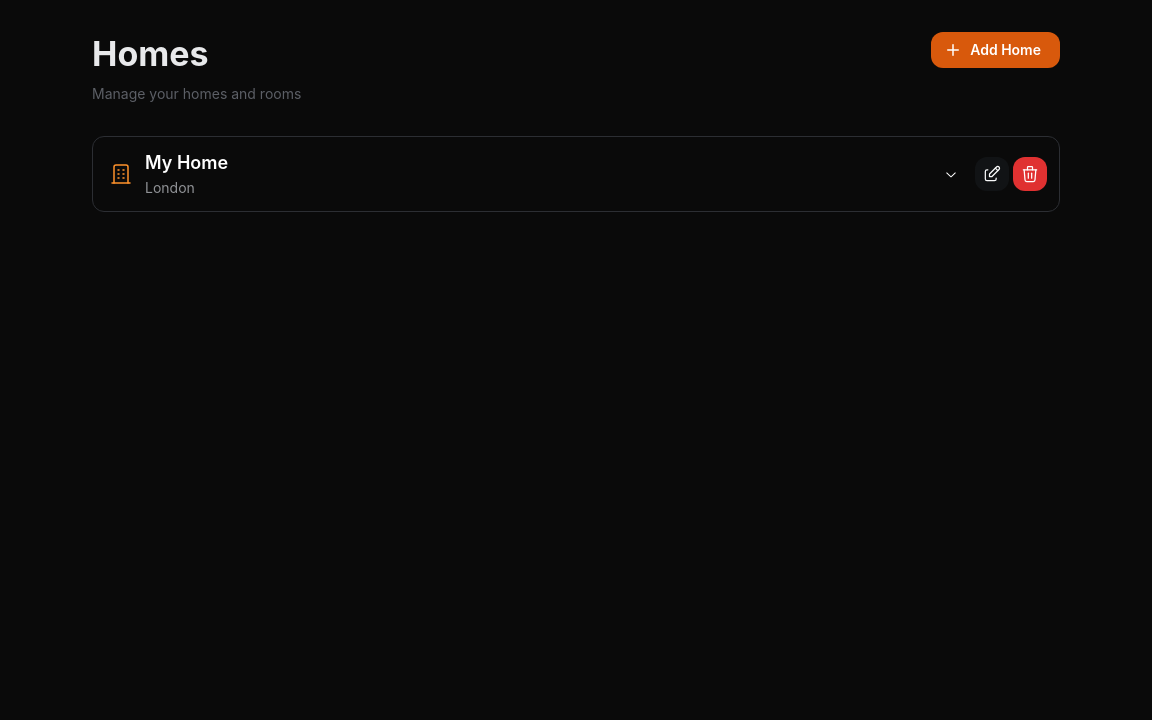
Test: Homes › opens the Edit Home modal with pre-filled values (handleOpenHomeModal with homeId)
Click the button named "Edit home". click: (992, 174)
box: x1=975 y1=157 x2=1009 y2=191
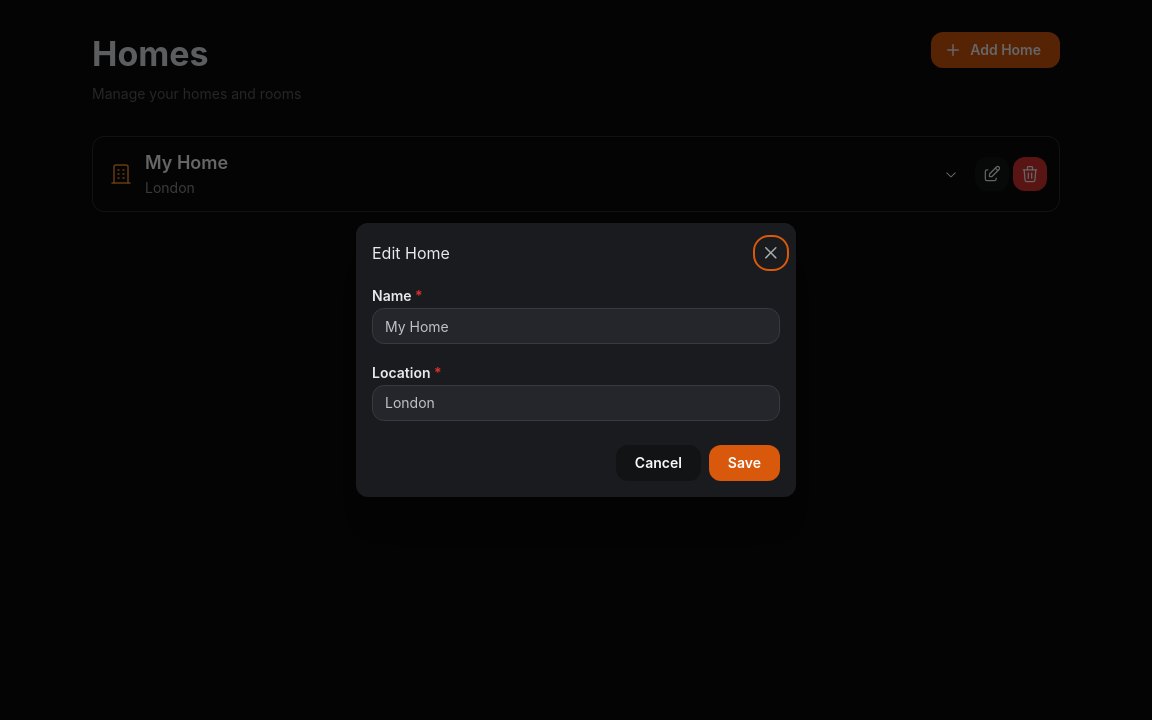
Result: the heading "Edit Home" is shown at x1=372 y1=245 x2=450 y2=261
Result: the field showing "My Home" is shown at x1=372 y1=308 x2=780 y2=344
Result: the field showing "London" is shown at x1=372 y1=385 x2=780 y2=421
